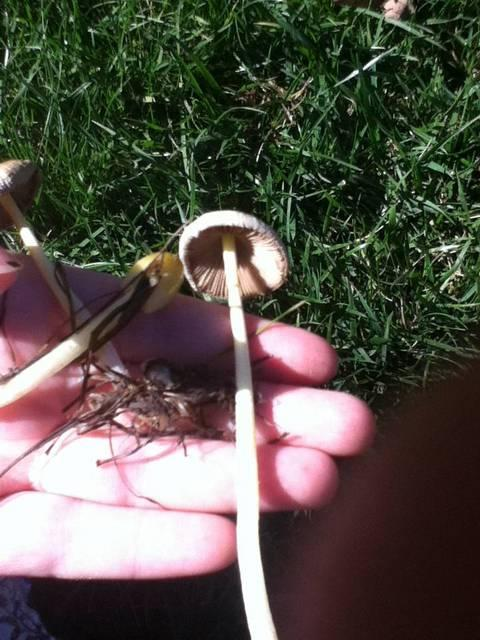edible_mushroom: (177, 208, 289, 639)
